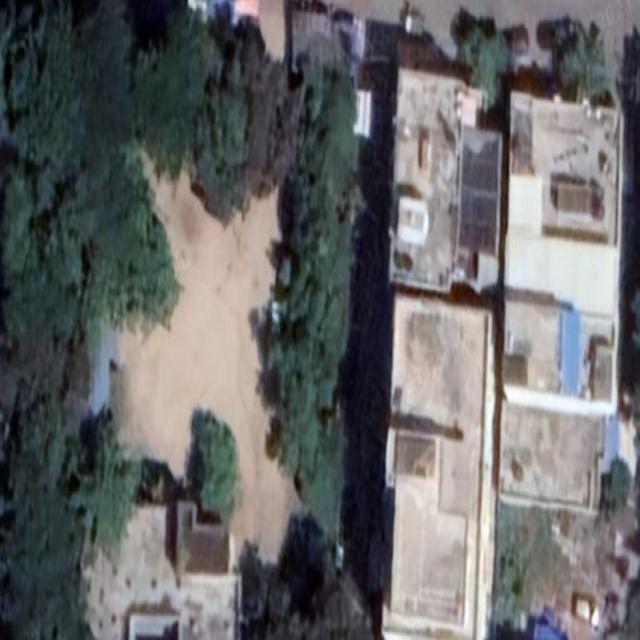Batiment: (501, 93, 621, 508), (384, 295, 494, 638), (390, 68, 500, 292), (84, 506, 239, 639), (176, 502, 229, 576)
